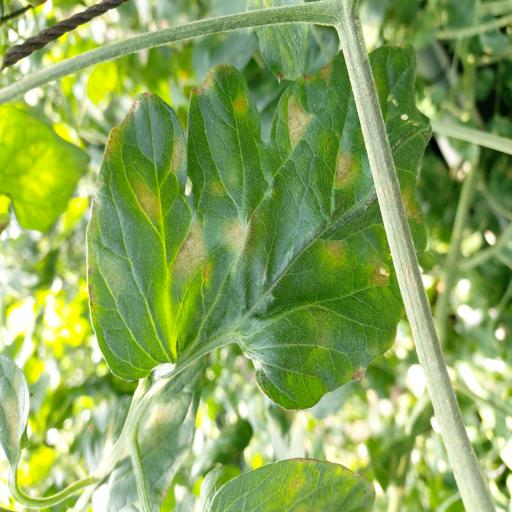Leaf Mold: (88, 42, 430, 410)
